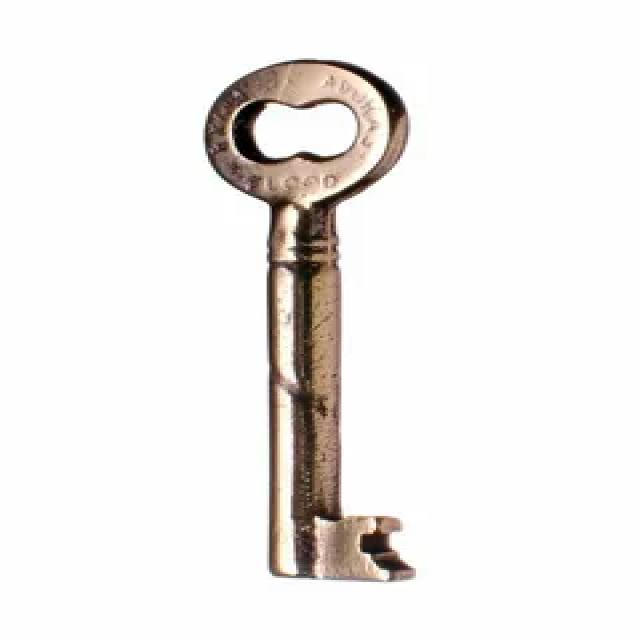key: (192, 38, 446, 606)
